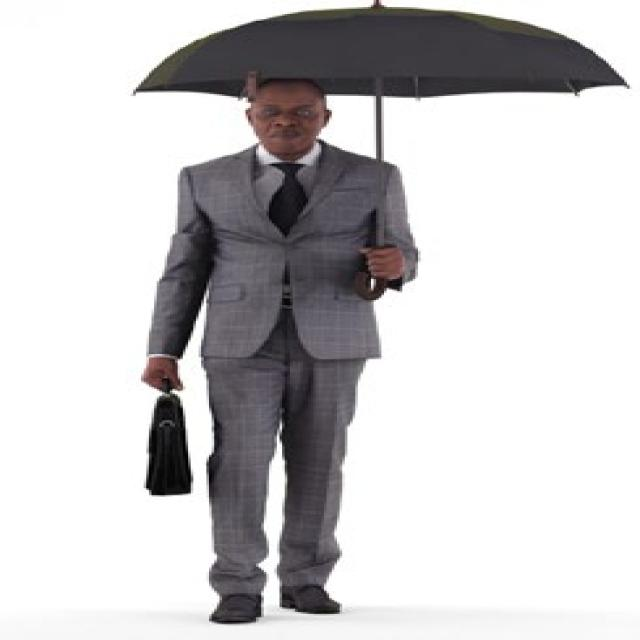standing: (134, 78, 426, 626)
